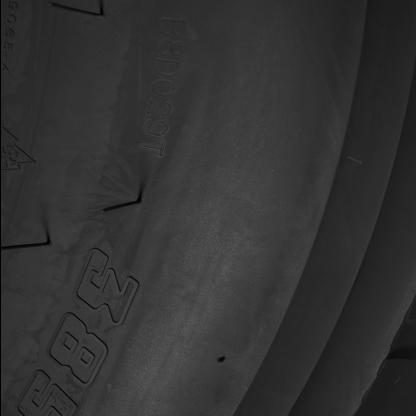ocr: (136, 17, 190, 158)
